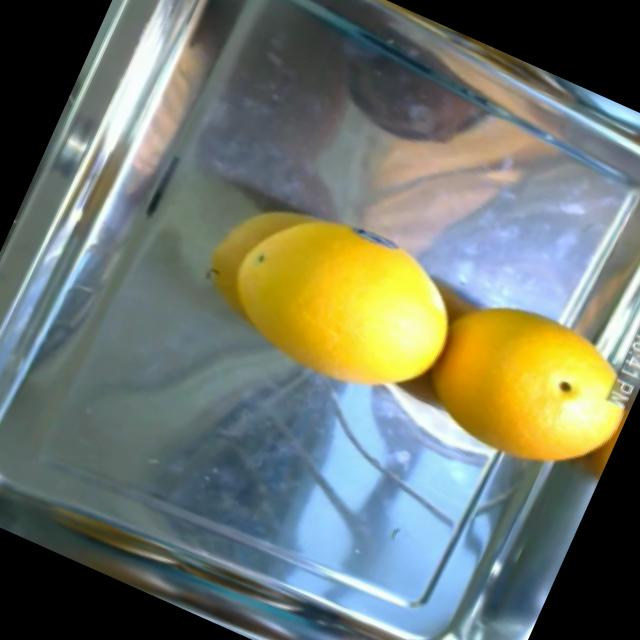Fruit: (177, 168, 392, 374)
